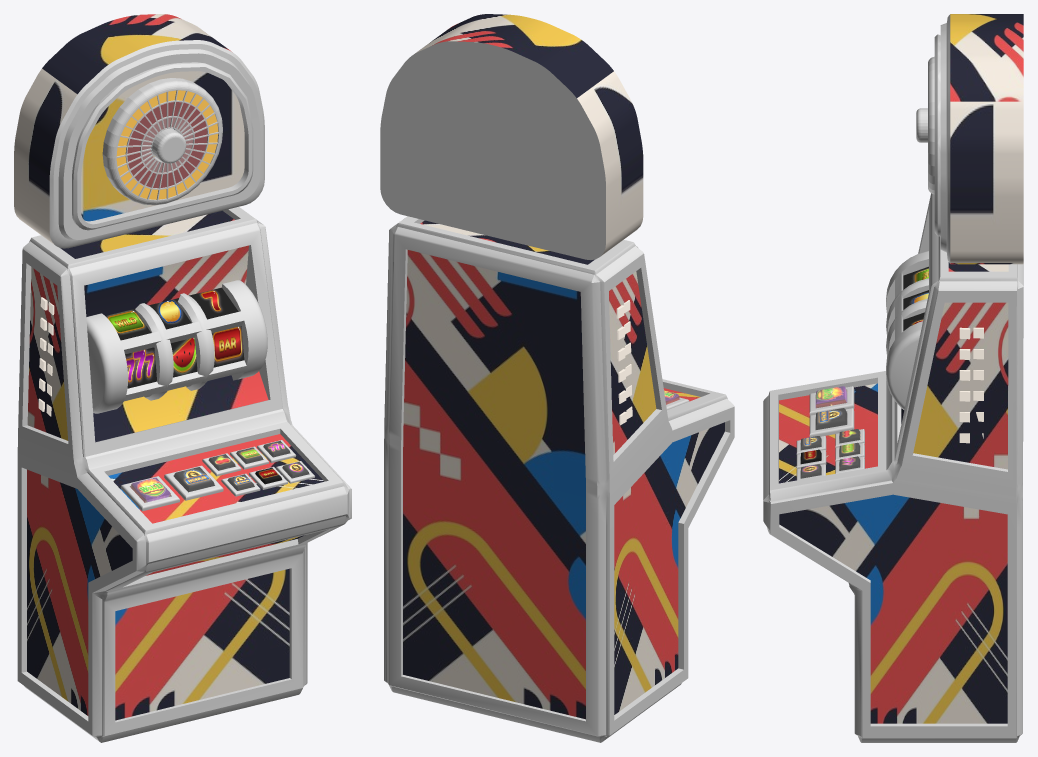
Rendered from slot_machine_alt.glb.
3 renders of one model, left to right at view 1: azimuth 30°, elevation 25°; view 2: azimuth 150°, elevation 25°; view 3: azimuth 270°, elevation 25°, orthographic. The views are drawn at different scales.
Visible parts, largest first — view 1: Cube.008_1; view 2: Cube.008_1; view 3: Cube.008_1.
Boxes of the visible parts, box(x1,y1,x2,y2) form: Cube.008_1: box(14, 14, 351, 742); Cube.008_1: box(380, 14, 734, 742); Cube.008_1: box(763, 14, 1023, 742).
Bounding box in the file's own units: 0.7059 × 2.02 × 0.717.
8 materials, 7 textured.
